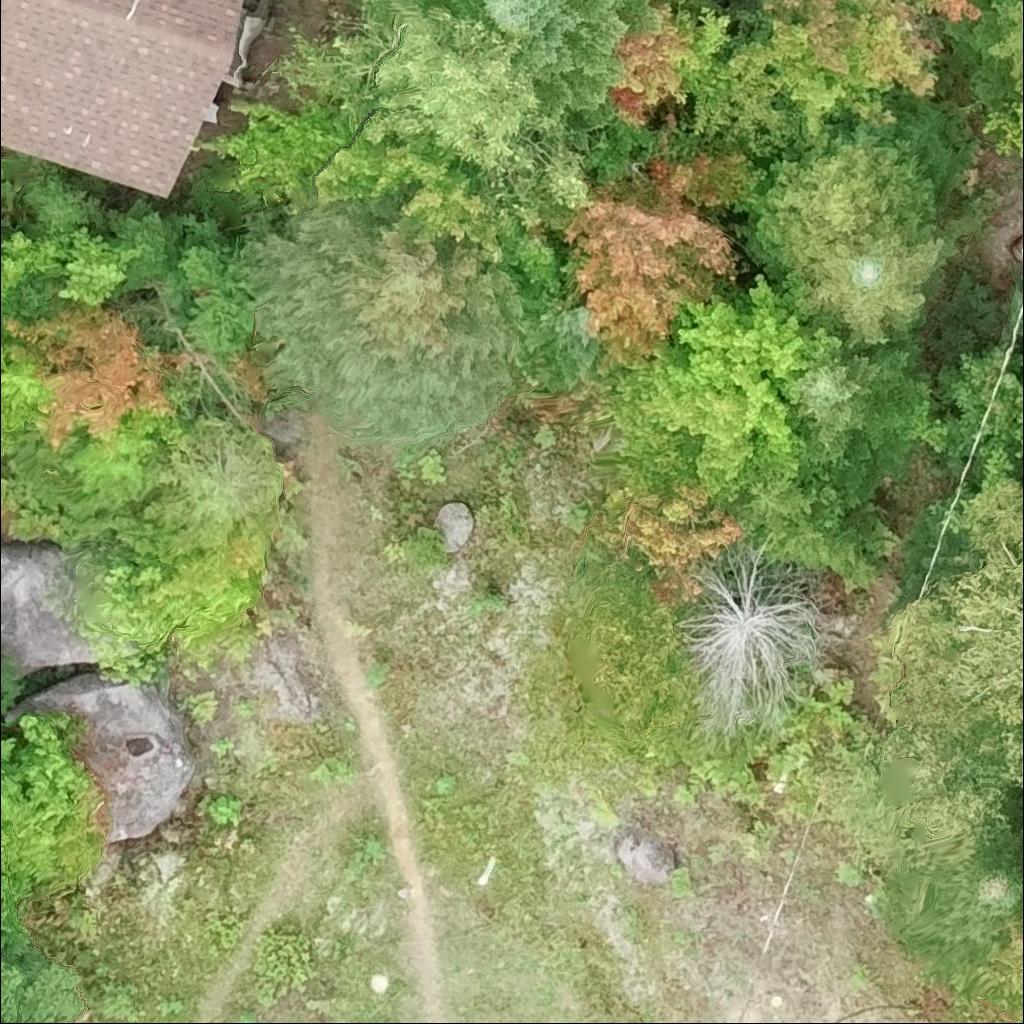crown: (373, 0, 657, 125), (561, 158, 738, 358), (885, 486, 1023, 742), (665, 275, 840, 467), (768, 0, 983, 134), (681, 531, 818, 738), (610, 331, 785, 492), (753, 131, 940, 272), (567, 540, 697, 741), (786, 349, 922, 511), (733, 465, 882, 589), (596, 483, 739, 607), (800, 224, 947, 344), (606, 3, 701, 126), (947, 0, 1023, 112), (516, 299, 600, 391), (1000, 732, 1023, 785), (1021, 330, 1023, 339)
